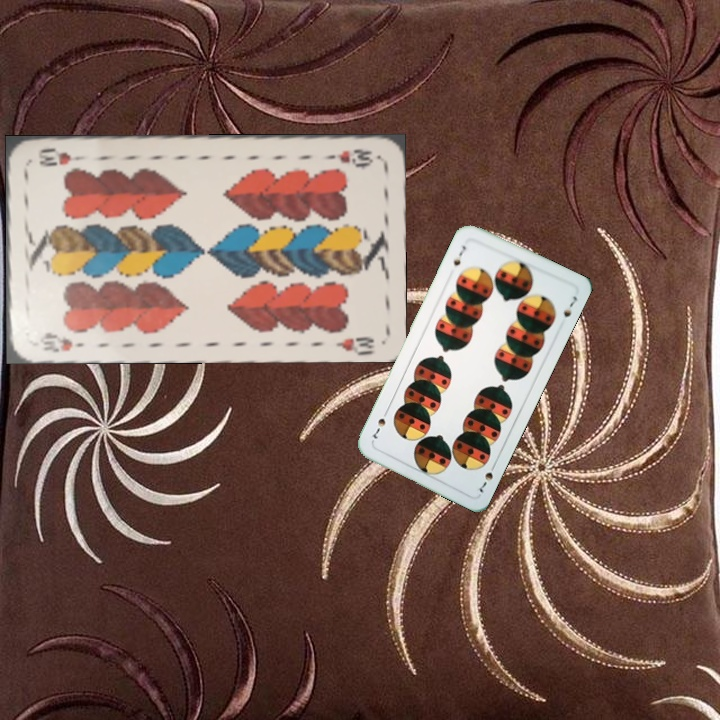H10: (36, 328, 87, 355), (320, 145, 375, 168)
S7: (475, 459, 499, 496), (449, 241, 469, 268)
